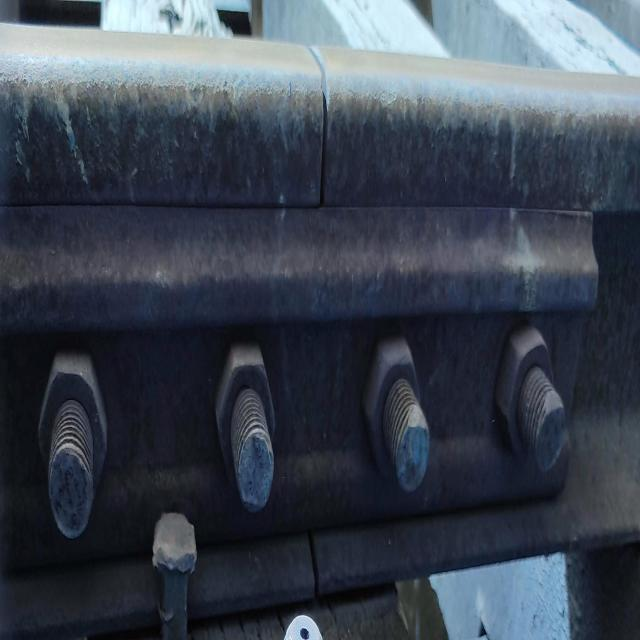Good Joint: (0, 192, 601, 518)
